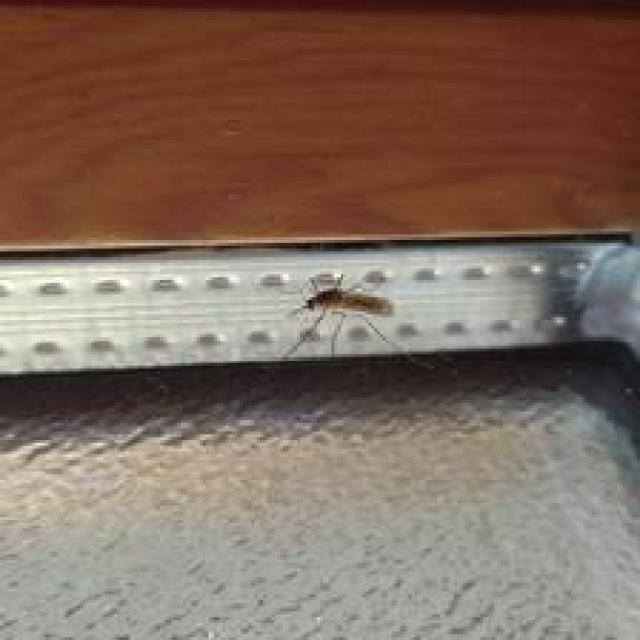Culex: (283, 270, 397, 359)
